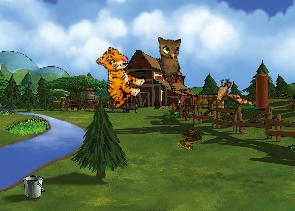eagle: (202, 72, 256, 118)
owl: (152, 31, 192, 84)
tiger: (82, 43, 152, 112)
